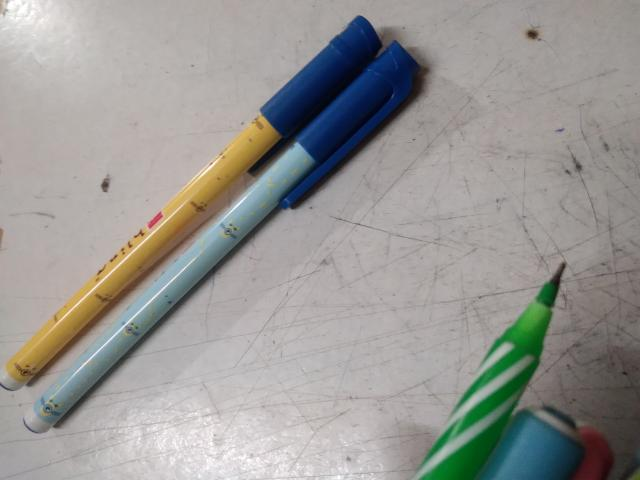PEN: (40, 8, 480, 443), (4, 428, 230, 480)
